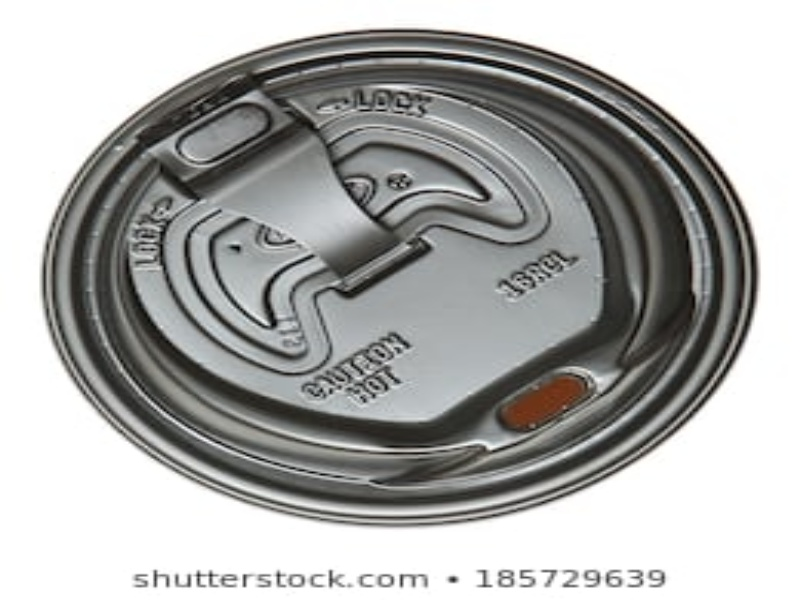coffee-lid: (40, 30, 761, 527)
